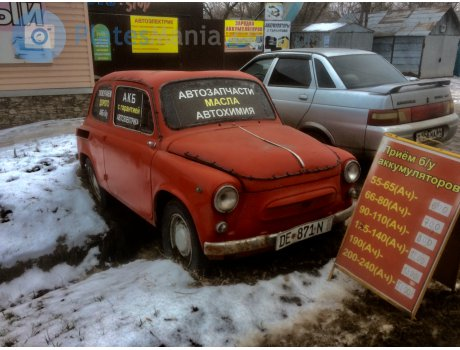License Plates: (281, 219, 325, 244)
